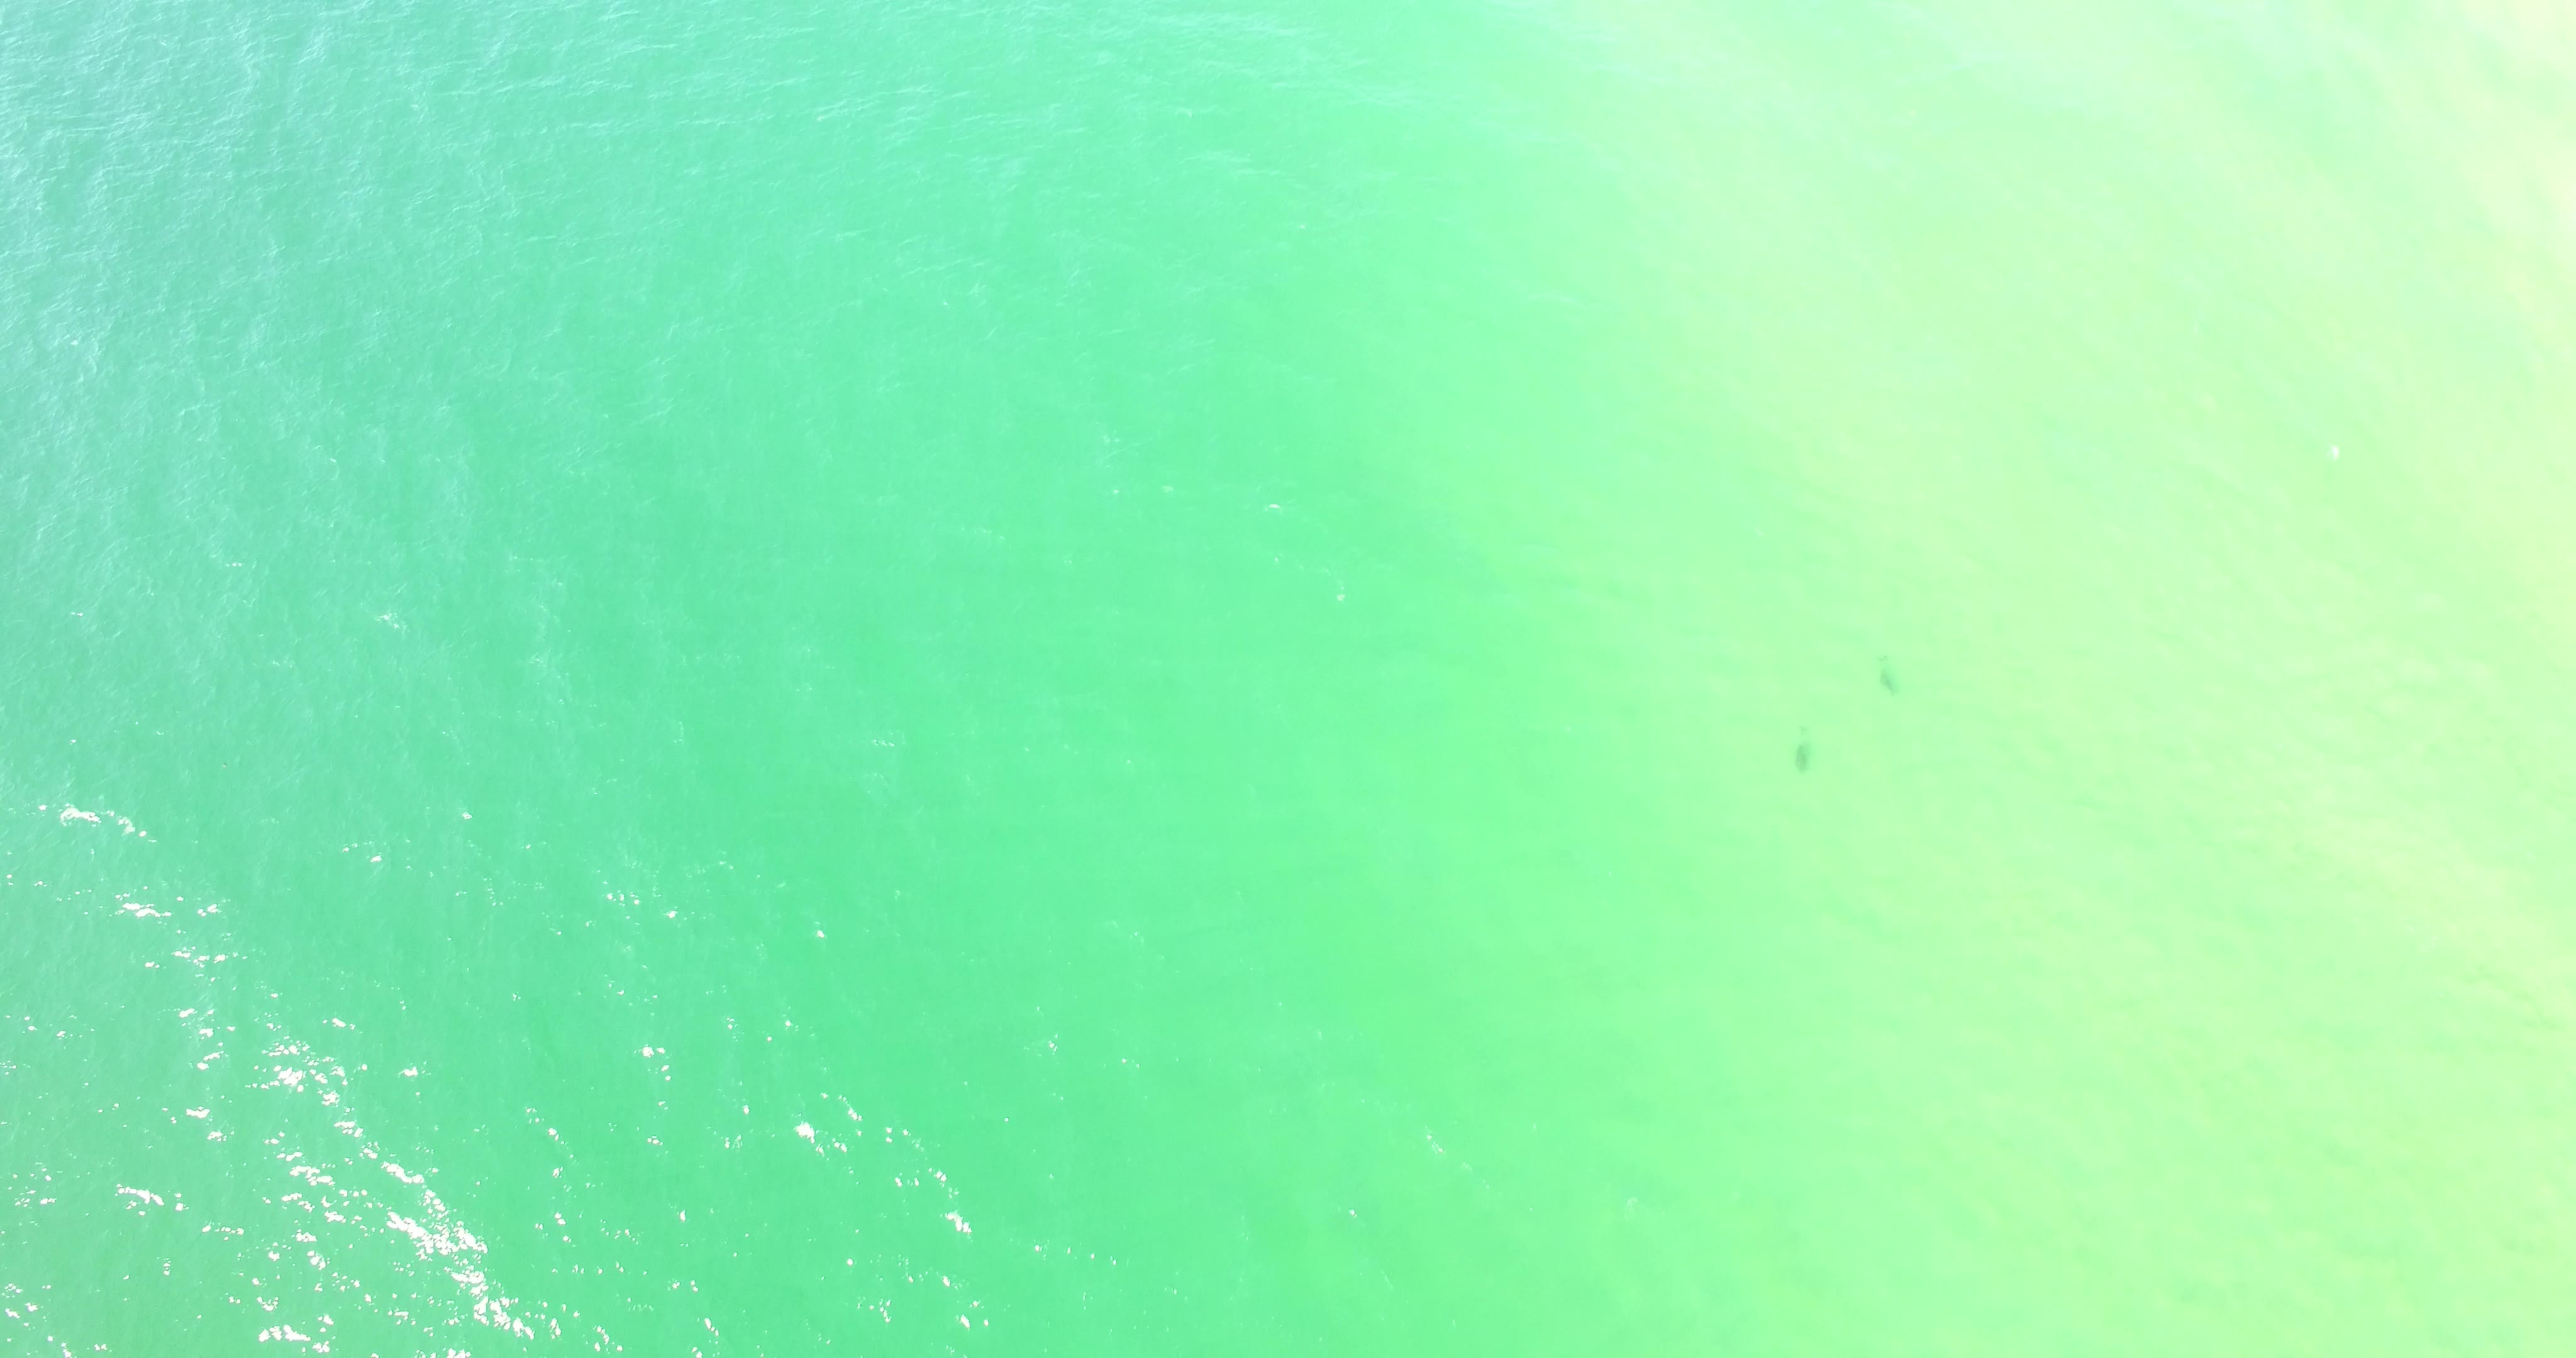dolphin: (1843, 641, 1920, 709), (1772, 702, 1826, 784)
